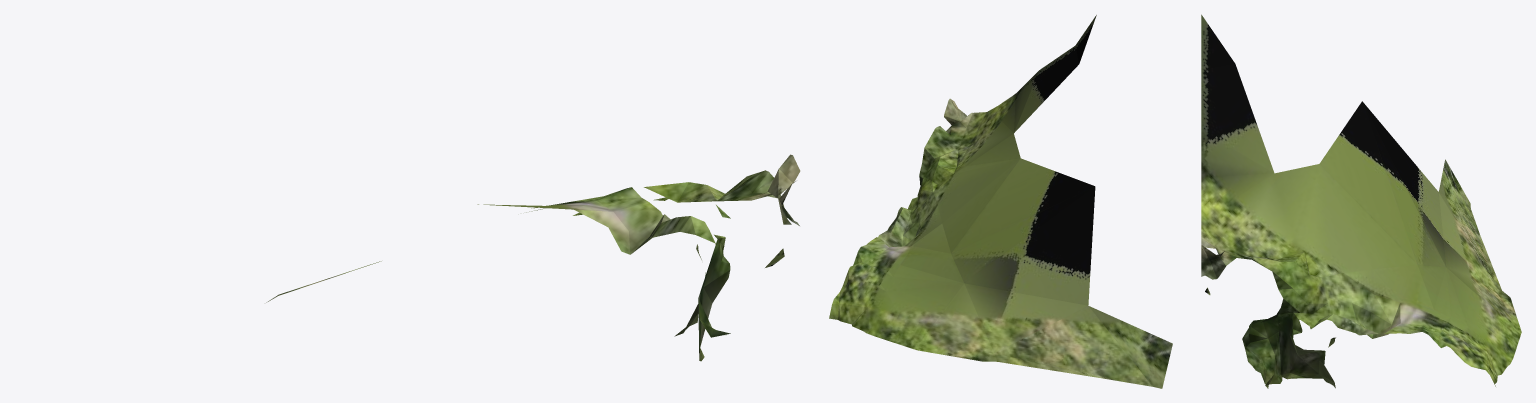
3 renders of one model, left to right at view 1: azimuth 30°, elevation 25°; view 2: azimuth 150°, elevation 25°; view 3: azimuth 270°, elevation 25°, orthographic. The views are drawn at different scales.
Bounding box in the file's own units: 52.22 × 38.4 × 38.12.
Materials: 2 (2 with a texture image).
